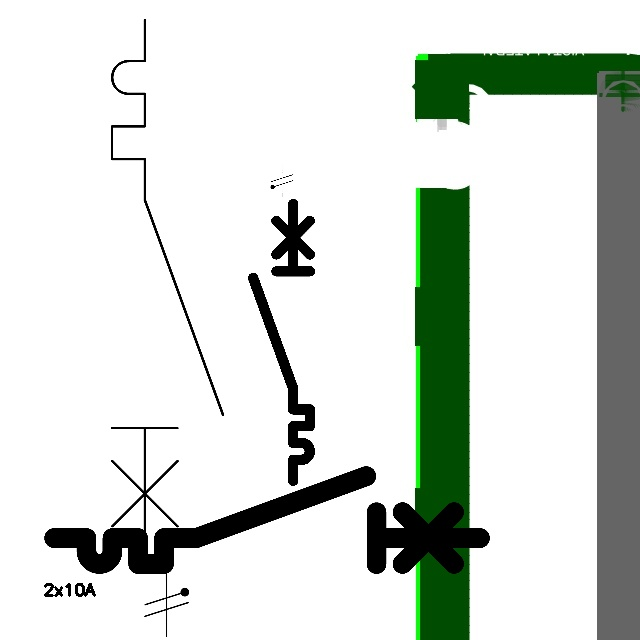interruptor_termomagnetico: (98, 6, 237, 573), (43, 465, 491, 575), (246, 196, 317, 487)
